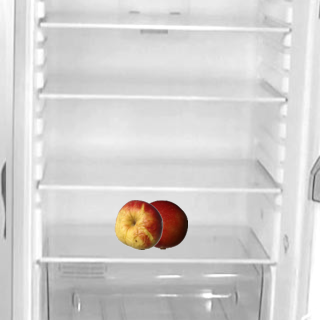Apple Braeburn: (137, 199, 187, 249)
Apple Red Yellow 1: (113, 199, 163, 249)
